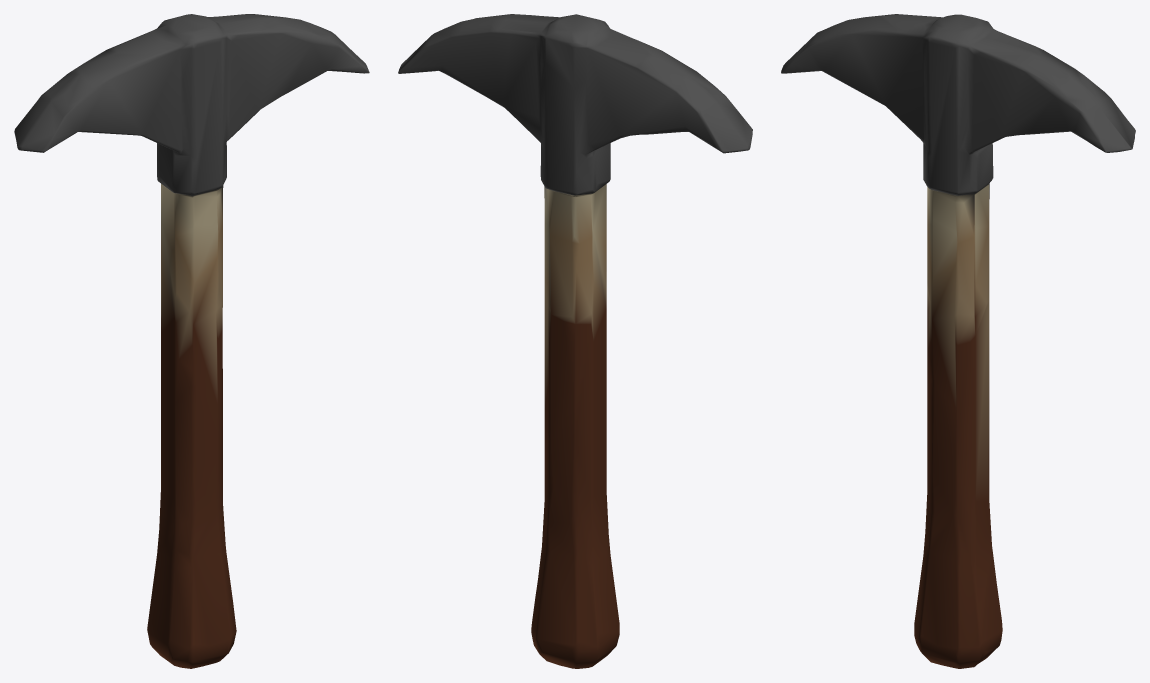
Rendered from gen3d-pickaxe-lod1.glb.
3 renders of one model, left to right at view 1: azimuth 30°, elevation 25°; view 2: azimuth 150°, elevation 25°; view 3: azimuth 330°, elevation 25°, orthographic.
Visible parts, largest first — view 1: part_0; view 2: part_0; view 3: part_0.
Part boxes in pixels (x1=…): part_0: x1=14, y1=14, x2=369, y2=668; part_0: x1=398, y1=14, x2=752, y2=668; part_0: x1=781, y1=14, x2=1135, y2=668.
Bounding box in the file's own units: 0.575 × 1 × 0.1116.
